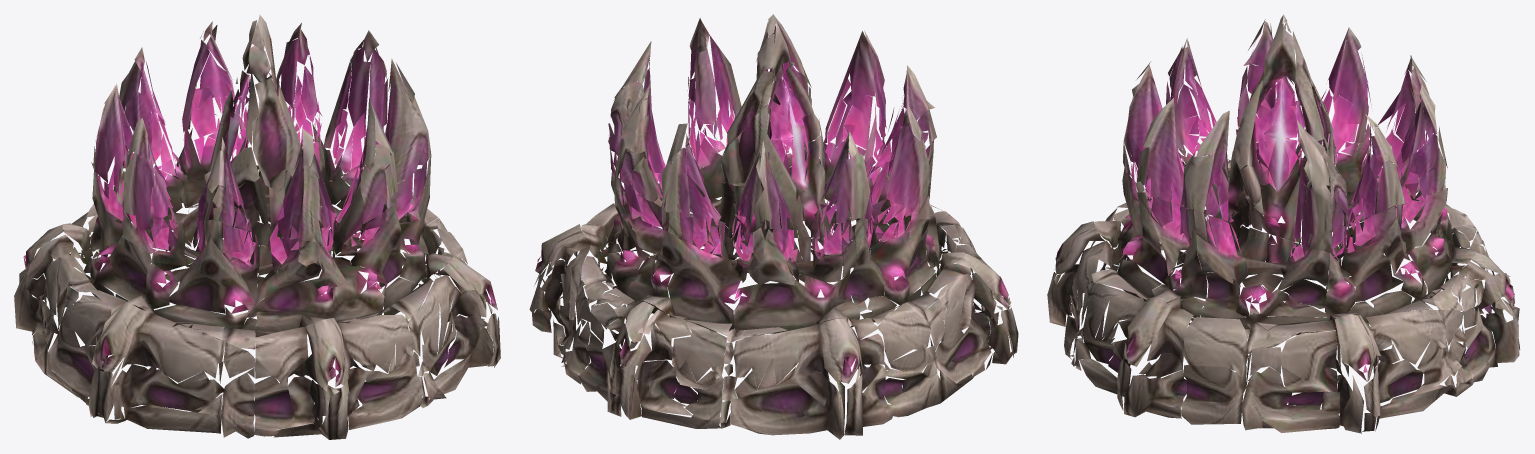
Rendered from zeynep-2-tier-3.glb.
3 views of the same model, side by side, from view 1: azimuth 30°, elevation 25°; view 2: azimuth 150°, elevation 25°; view 3: azimuth 270°, elevation 25° (orthographic).
Parts seen in each view (by area): view 1: moving-assembly, fixed-platform; view 2: moving-assembly, fixed-platform; view 3: moving-assembly, fixed-platform.
Boxes of the visible parts, x1,y1,x2,y2 form: moving-assembly: [23, 14, 497, 391]; fixed-platform: [14, 208, 500, 439]; moving-assembly: [535, 14, 1011, 388]; fixed-platform: [529, 203, 1018, 439]; moving-assembly: [1055, 14, 1514, 382]; fixed-platform: [1047, 229, 1520, 433].
Size of the model in its own units: 0.7875 by 0.6221 by 0.8018.
2 materials, 2 textured.
